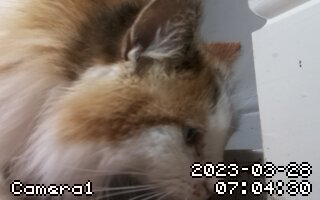clara: (3, 7, 248, 200)
